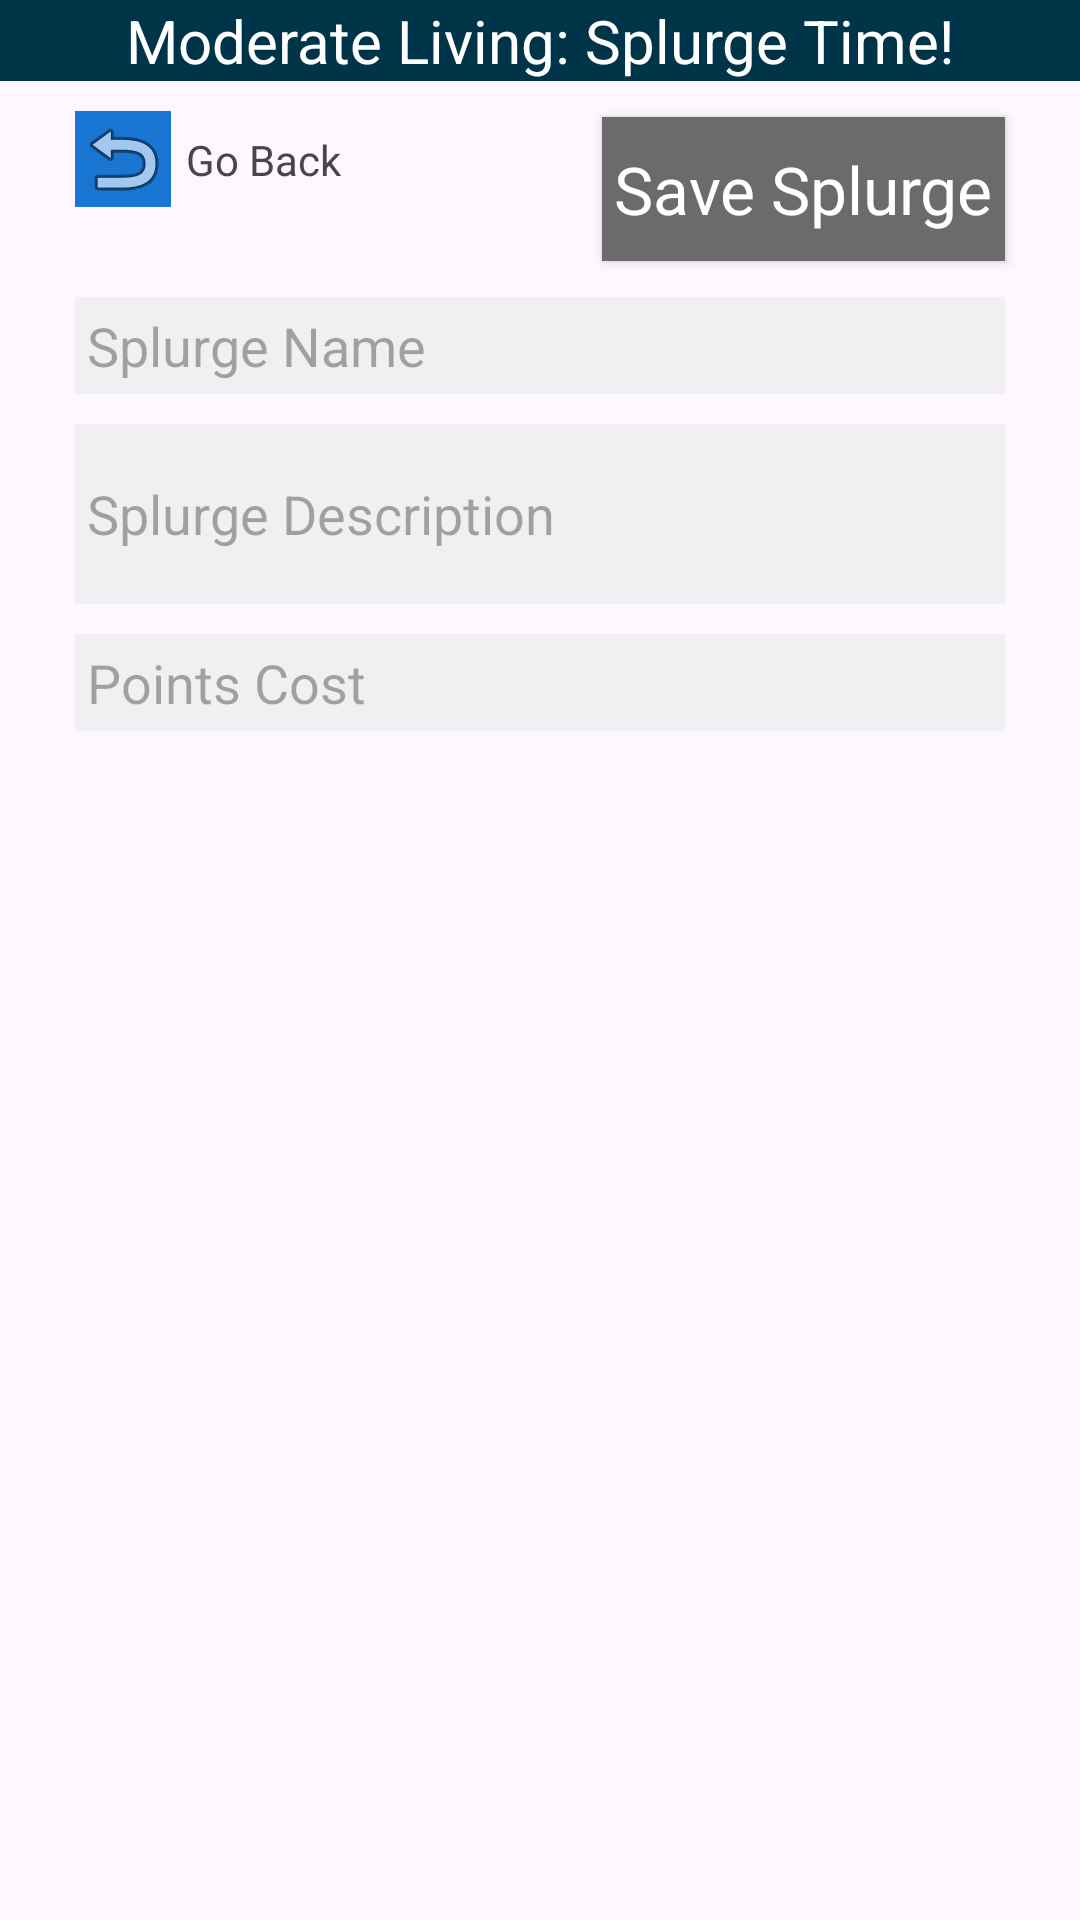

Icons on this 1080px x 1920px Android screen, each with its box as (x1, y1, x2, y2):
revert: (75, 111, 171, 207)
